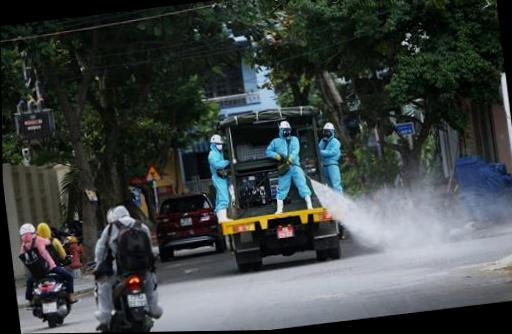License_Plate: (125, 290, 148, 309), (39, 299, 61, 316), (275, 221, 295, 238), (179, 216, 193, 228)
